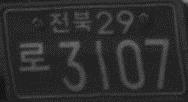0: (116, 38, 146, 91)
1: (93, 39, 112, 89)
2: (96, 9, 116, 37)
3: (57, 39, 86, 92)
7: (143, 36, 171, 91)
9: (116, 9, 135, 36)
로: (19, 40, 50, 74)
전북_O: (48, 10, 94, 34)
